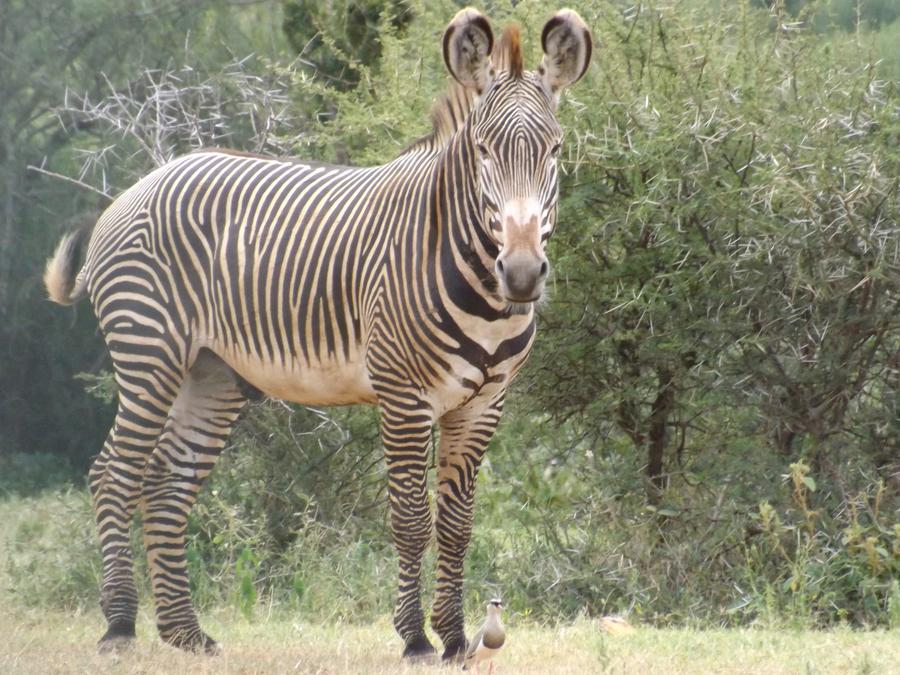zebra_grevys: (106, 150, 454, 403)
